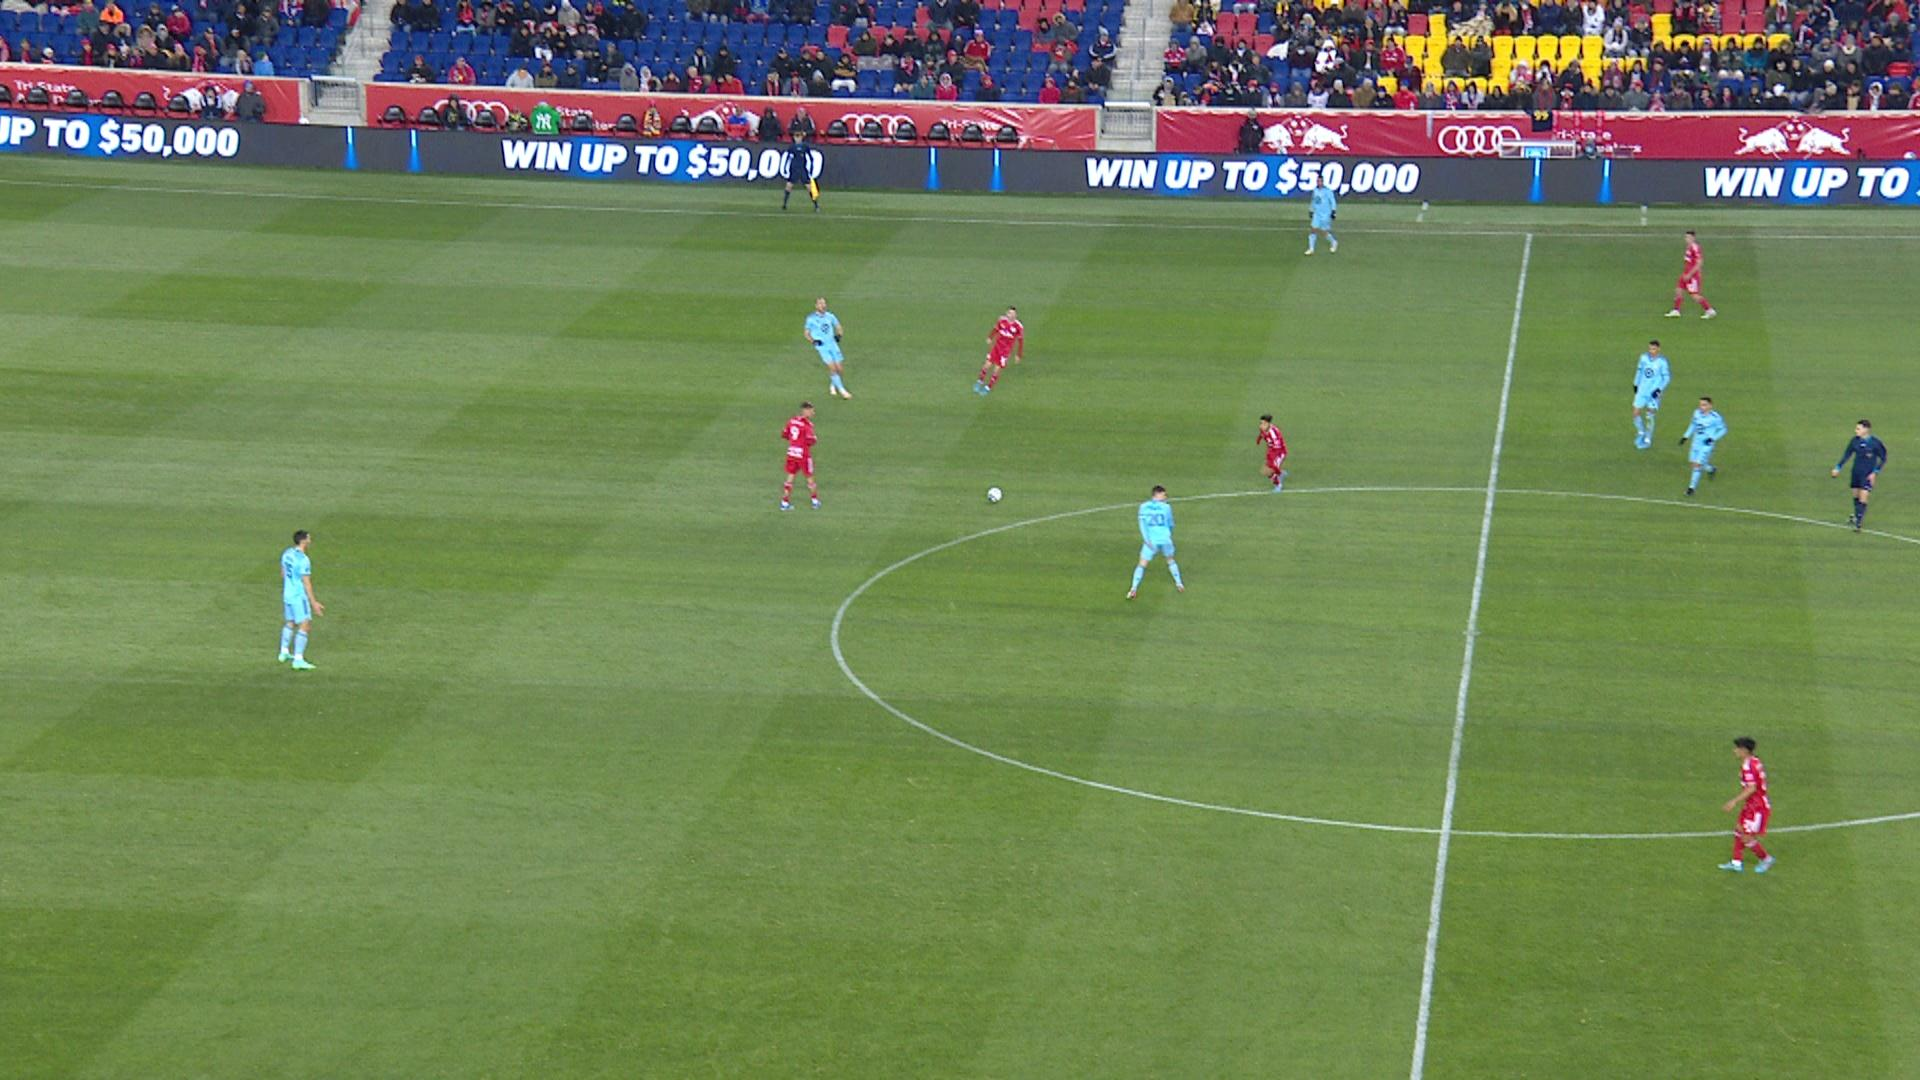football: (988, 485, 1002, 504)
